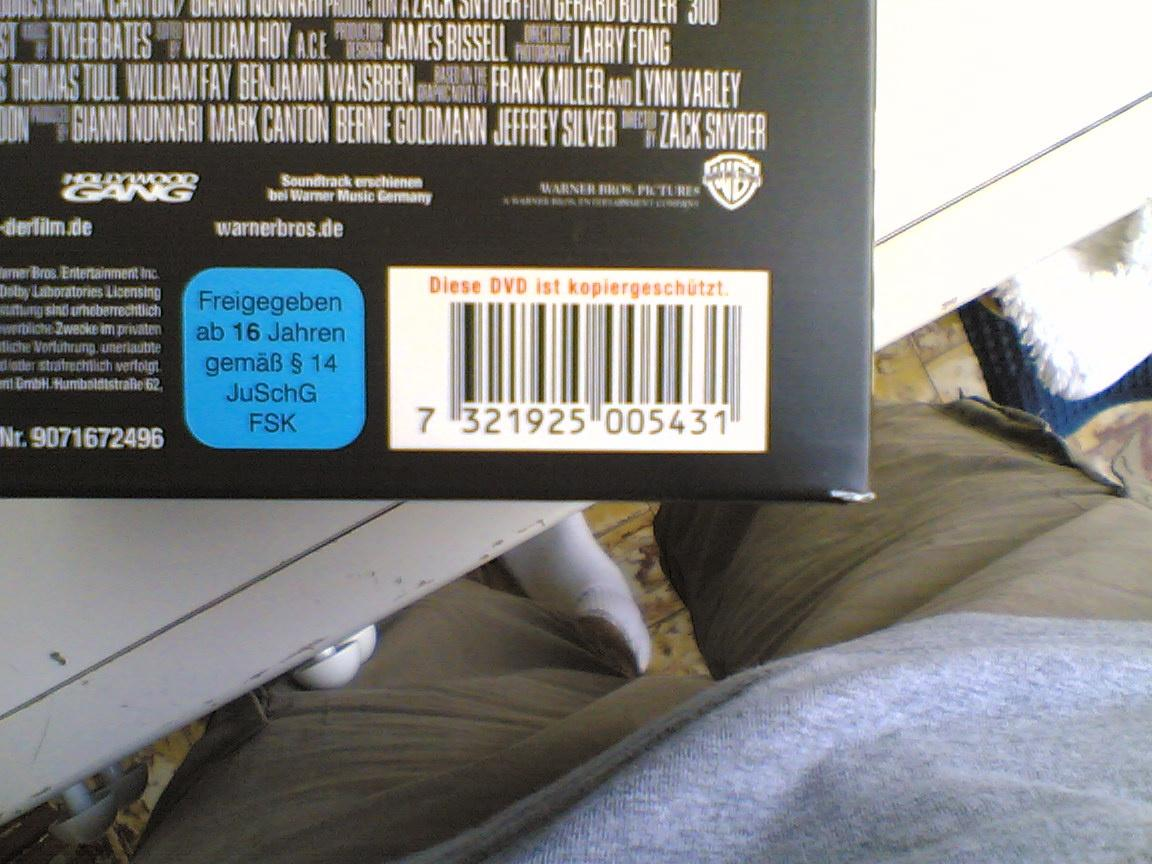Barcode: (388, 265, 773, 453)
